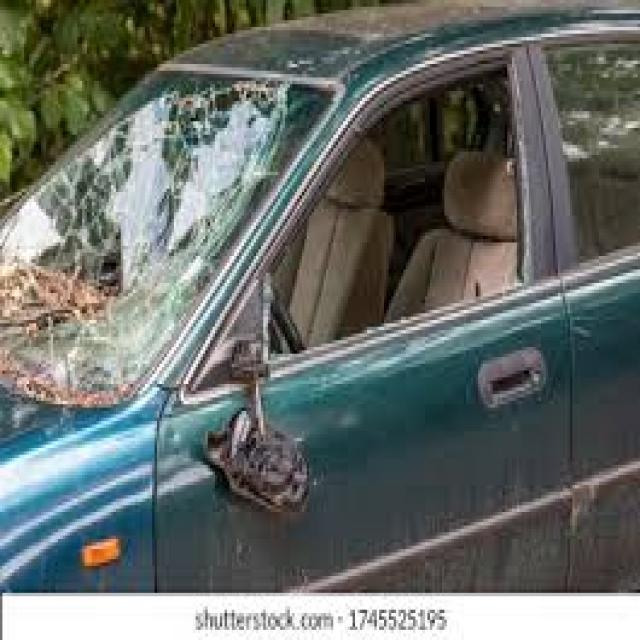damaged-windscreen: (0, 62, 336, 411)
